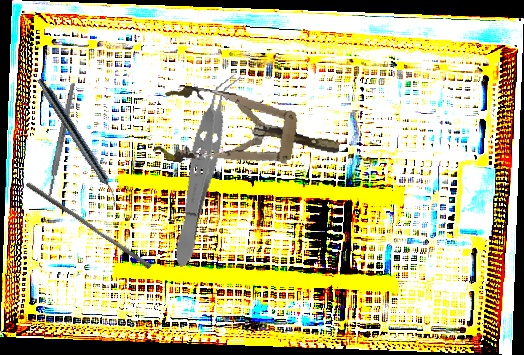Handpiece: (32, 75, 125, 208)
Pusher: (22, 181, 155, 270)
Scalpel Handle: (46, 82, 77, 197)
Speculum: (152, 82, 345, 187)
Tissue Forceps: (165, 68, 243, 271)
